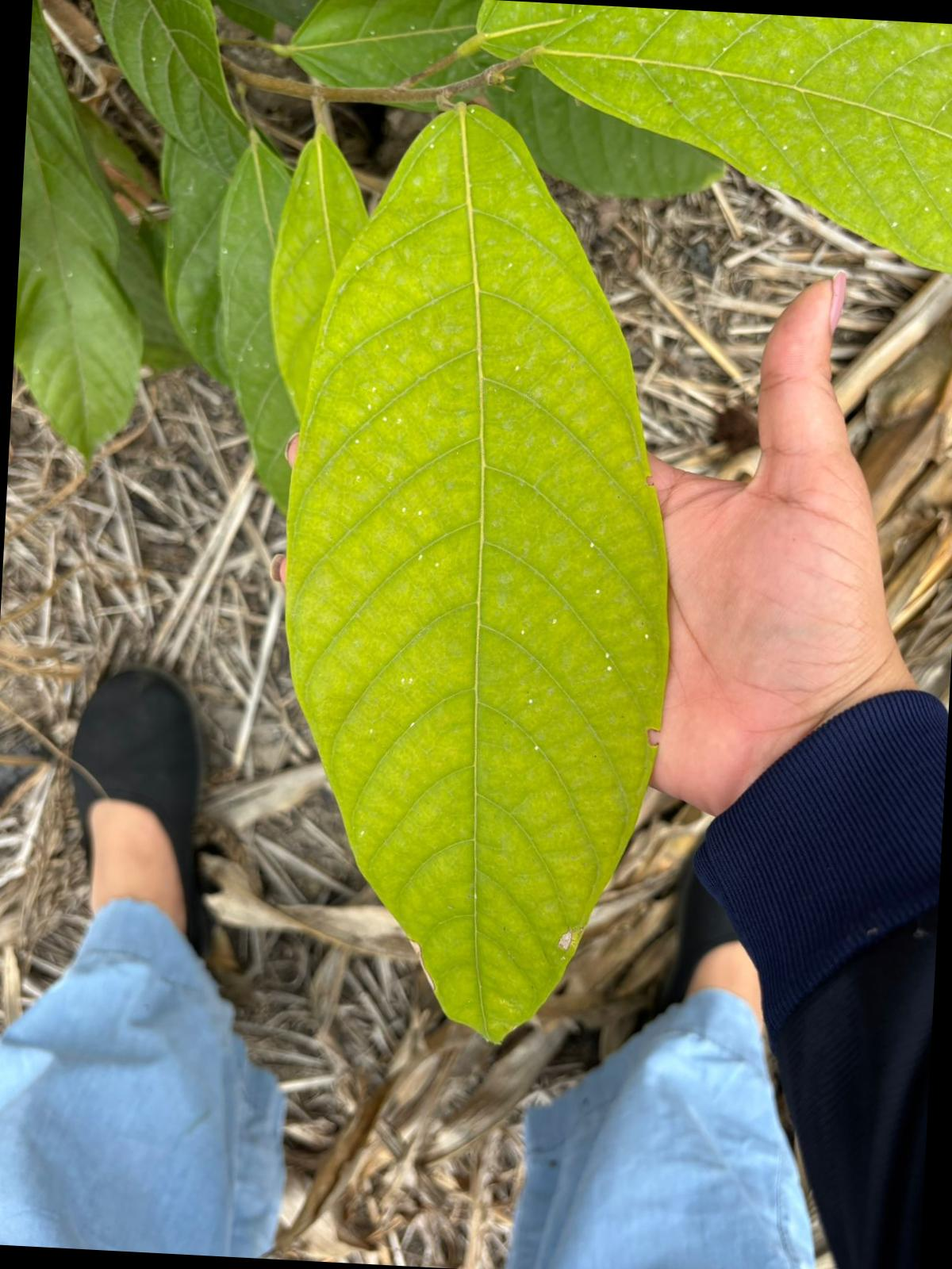Nitrogeno: (287, 107, 668, 1039), (478, 0, 952, 273), (271, 125, 366, 416)
